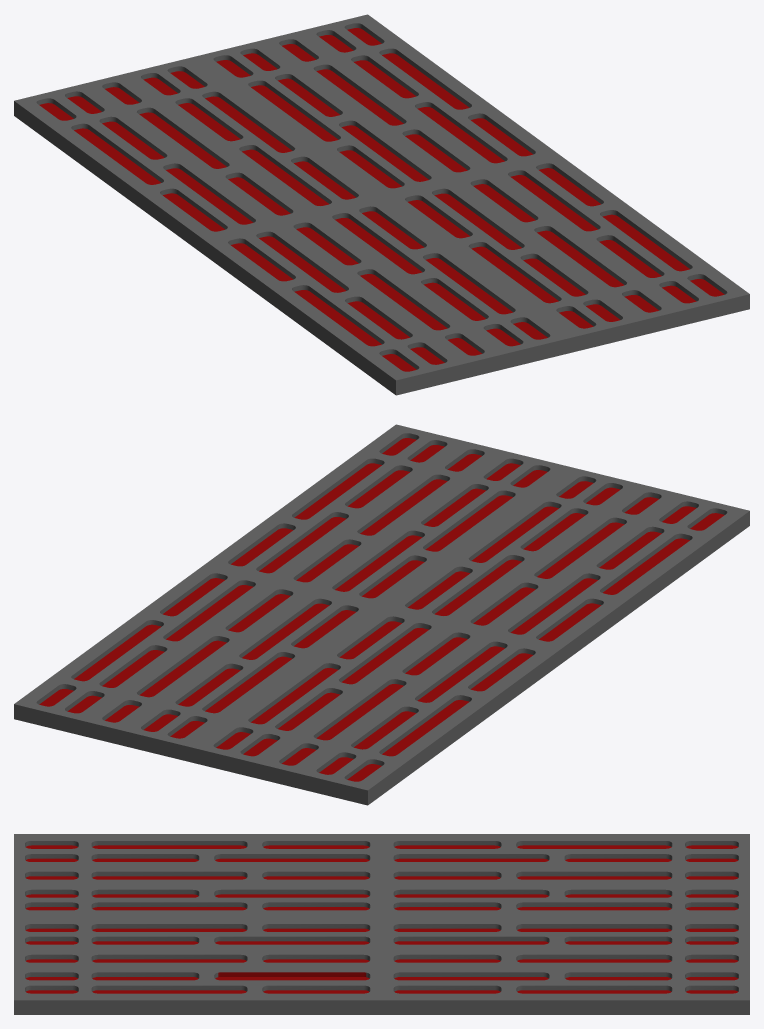
Rendered from panal_light1.fbx.
The picture shows the model from 3 angles, top to bottom: view 1: azimuth 30°, elevation 25°; view 2: azimuth 150°, elevation 25°; view 3: azimuth 270°, elevation 25°; orthographic projection. The views are drawn at different scales.
Parts seen in each view (by area): view 1: Empty_Mesh; view 2: Empty_Mesh; view 3: Empty_Mesh.
Boxes of the visible parts, left/top/right/bottom form: Empty_Mesh: left=14, top=14, right=749, bottom=395; Empty_Mesh: left=14, top=424, right=749, bottom=805; Empty_Mesh: left=14, top=834, right=749, bottom=1014.
Size of the model in its own units: 54 by 2.2 by 101.
